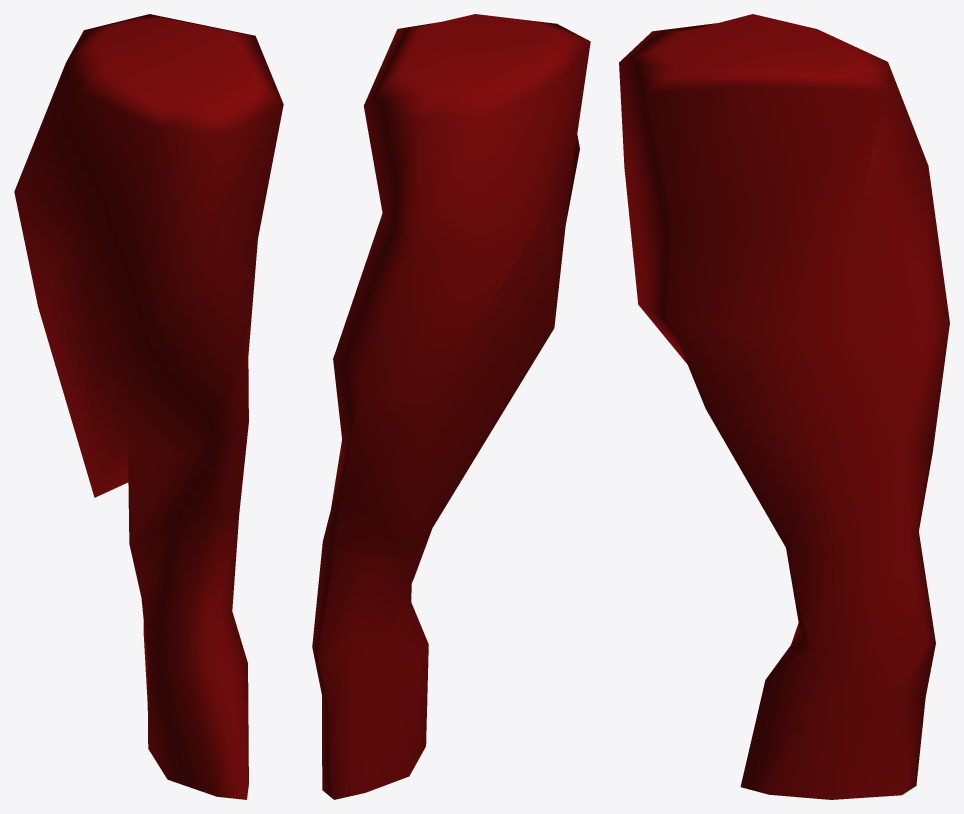
Rendered from UniquePillar02_mesh.fbx.
The picture shows the model from 3 angles, left to right: view 1: azimuth 30°, elevation 25°; view 2: azimuth 150°, elevation 25°; view 3: azimuth 270°, elevation 25°; orthographic projection. The views are drawn at different scales.
Parts seen in each view (by area): view 1: UniquePlllar02_mesh; view 2: UniquePlllar02_mesh; view 3: UniquePlllar02_mesh.
Part boxes in pixels (x1=…): UniquePlllar02_mesh: x1=14, y1=14, x2=283, y2=799; UniquePlllar02_mesh: x1=312, y1=14, x2=590, y2=799; UniquePlllar02_mesh: x1=619, y1=14, x2=949, y2=799.
Bounding box in the file's own units: 3.58 × 12.29 × 5.12.
